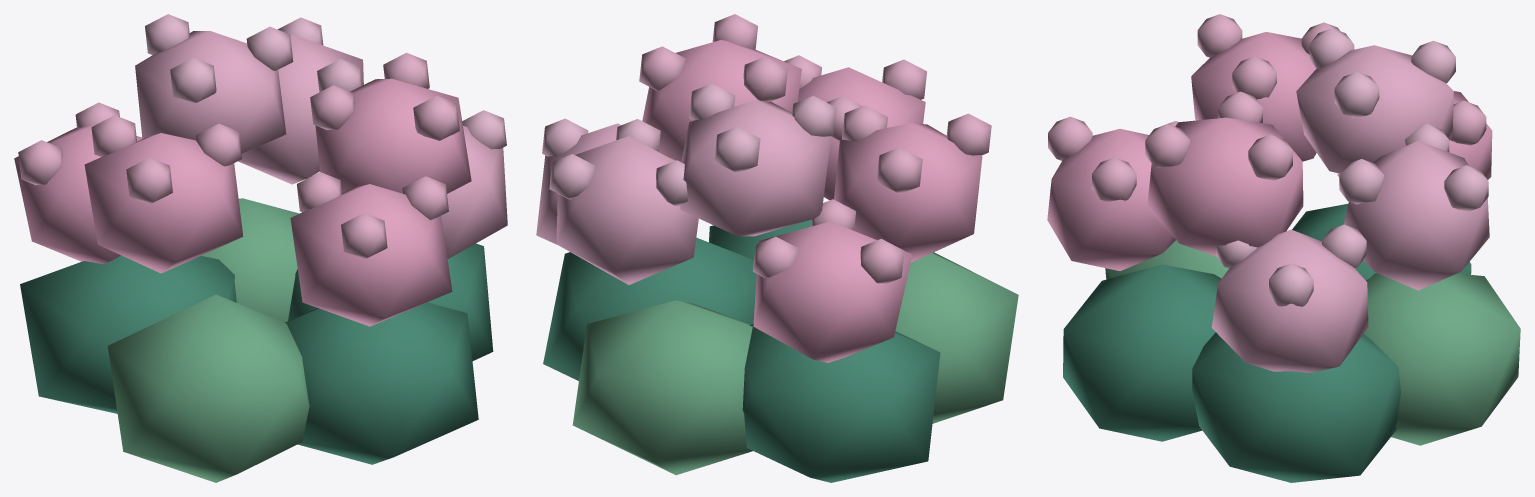
The model's file is hydrangea_pink.glb.
3 views of the same model, side by side, from view 1: azimuth 30°, elevation 25°; view 2: azimuth 150°, elevation 25°; view 3: azimuth 270°, elevation 25° (orthographic).
Visible parts, largest first — view 1: hydrangea_pink; view 2: hydrangea_pink; view 3: hydrangea_pink.
Boxes of the visible parts, x1,y1,x2,y2 form: hydrangea_pink: (14, 14, 507, 482); hydrangea_pink: (536, 14, 1018, 482); hydrangea_pink: (1047, 14, 1520, 482).
Size of what is drawn, in the model's own units: 1.31 by 1.1 by 1.26.
